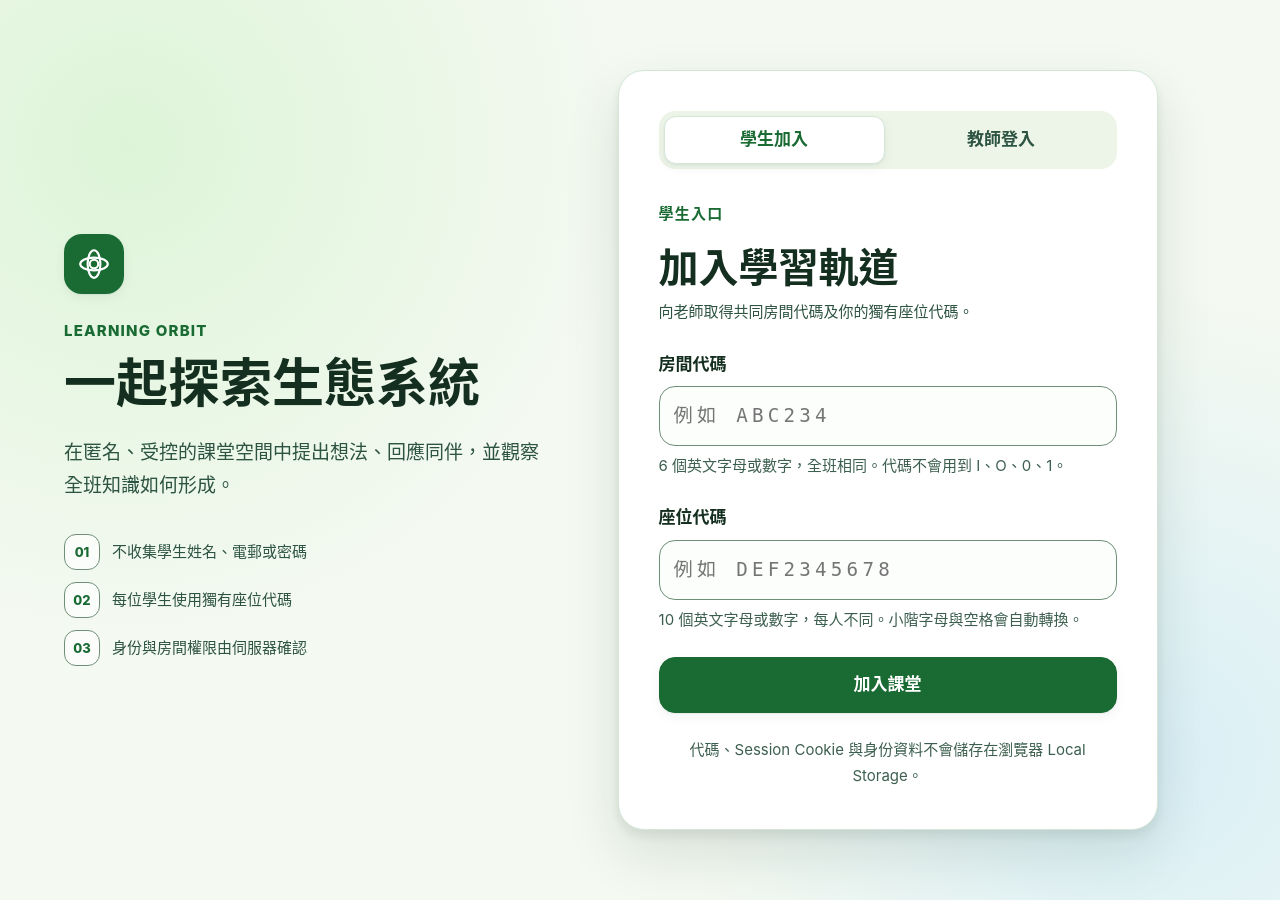
unified login page › shows only the two code fields for students and validates locally
Expected: the heading "加入學習軌道" is shown, x1=659 y1=243 x2=899 y2=292
Expected: the field labelled "房間代碼" is shown, x1=659 y1=386 x2=1117 y2=446
Click the button "加入課堂": (888, 685) x1=659 y1=657 x2=1117 y2=713
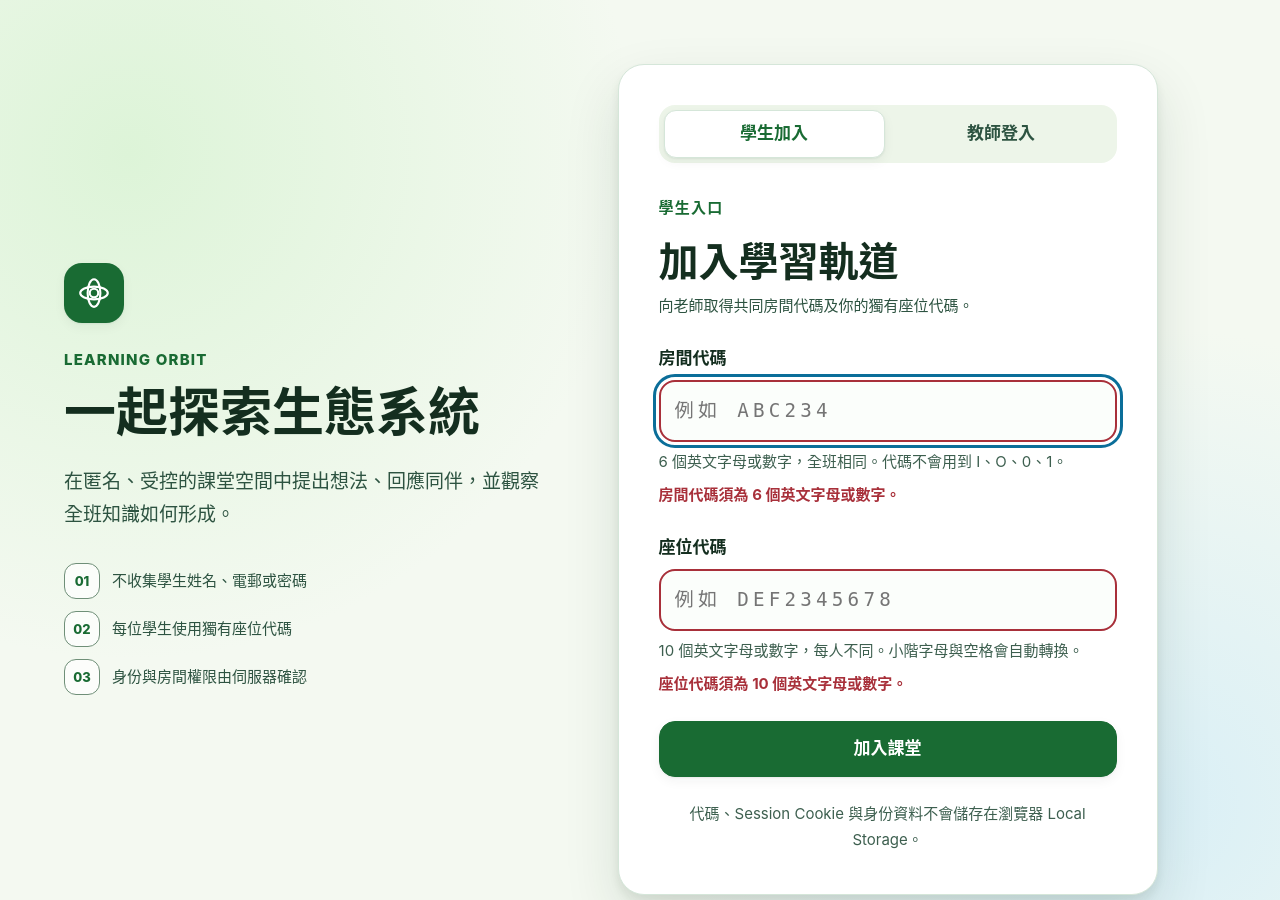
Expected: the text "房間代碼須為 6 個英文字母或數字。" is shown, x1=659 y1=485 x2=900 y2=504
Expected: the text "座位代碼須為 10 個英文字母或數字。" is shown, x1=659 y1=674 x2=907 y2=693
